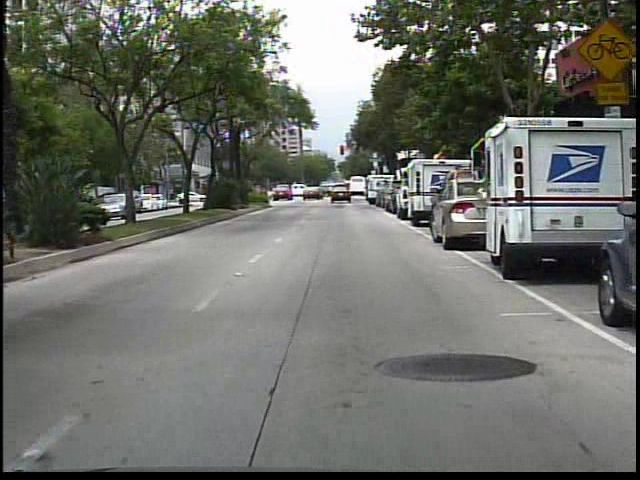person: (338, 183, 351, 203)
